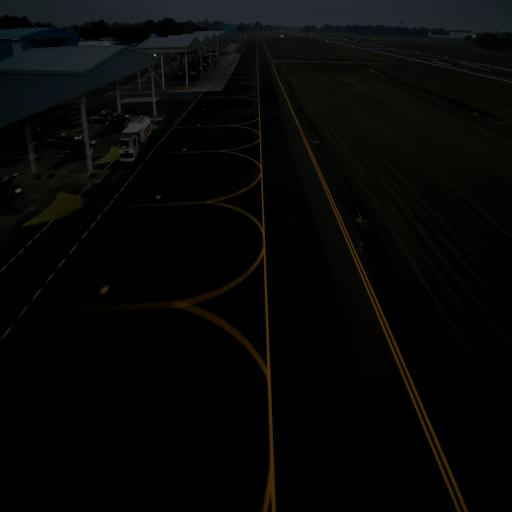on: (358, 212, 362, 222)
